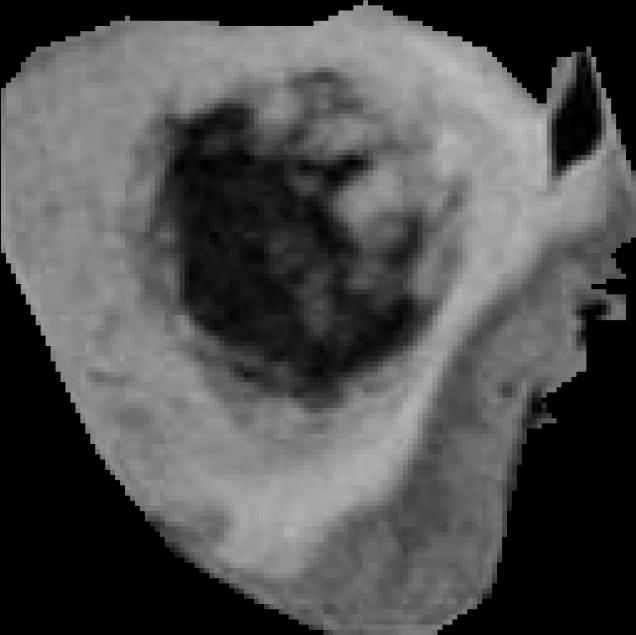tumor_less_chance: (1, 0, 636, 635)
